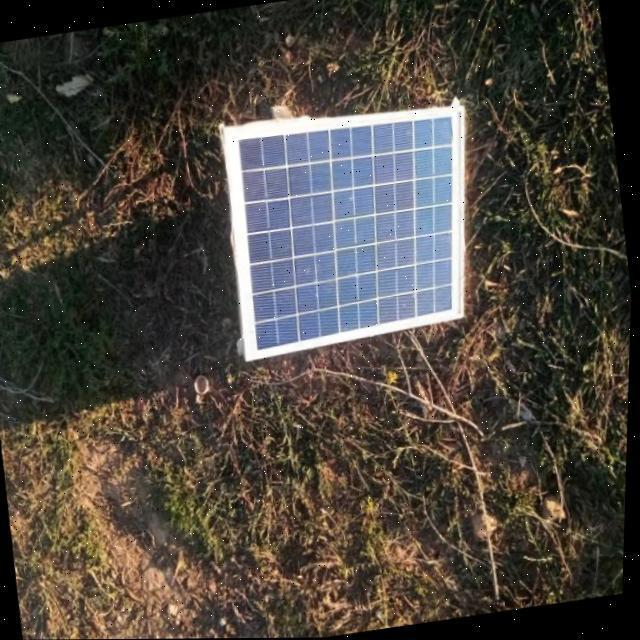Normal Solar Panel: (218, 94, 494, 362)
